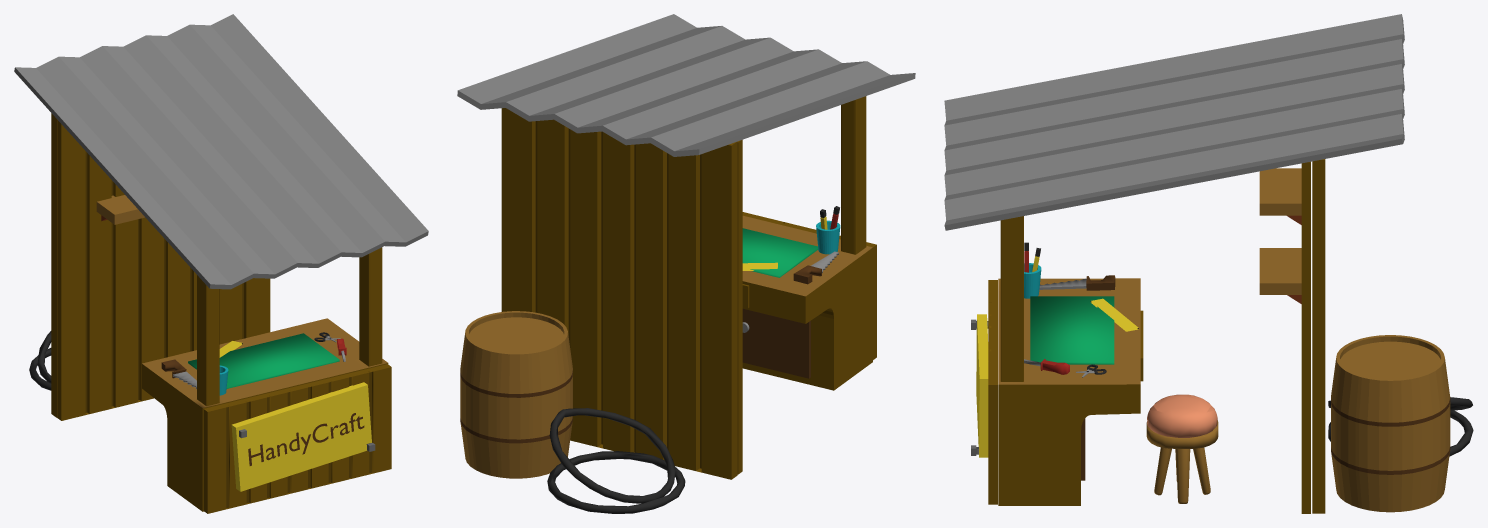
Rendered from Meja_Pengepul.fbx.
3 renders of one model, left to right at view 1: azimuth 30°, elevation 25°; view 2: azimuth 150°, elevation 25°; view 3: azimuth 270°, elevation 25°, orthographic. The views are drawn at different scales.
Parts seen in each view (by area): view 1: Tembok.009; view 2: Tembok.009; view 3: Tembok.009.
Boxes of the visible parts, x1,y1,x2,y2 form: Tembok.009: [14, 14, 428, 513]; Tembok.009: [457, 14, 915, 513]; Tembok.009: [944, 14, 1473, 513].
Bounding box in the file's own units: 703 × 994 × 1258.
